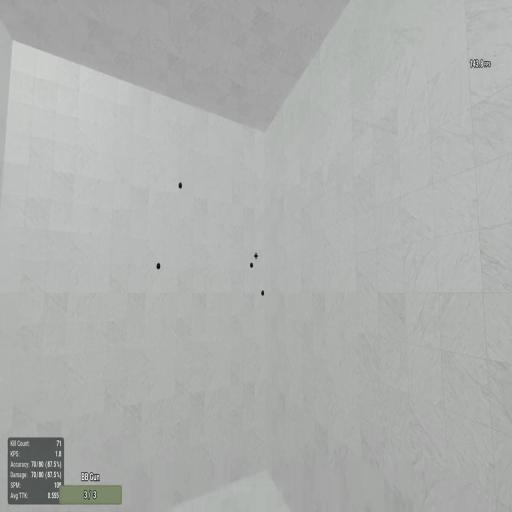Crosshair: (253, 249, 259, 262)
Target: (249, 260, 254, 270), (156, 261, 161, 270), (260, 289, 265, 297), (178, 181, 182, 189)
